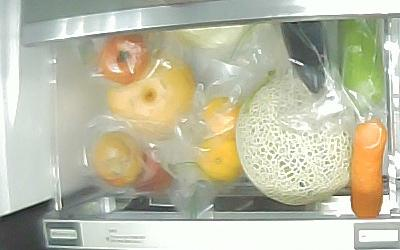carrot: (348, 117, 385, 218)
eggplant_vinyl: (280, 19, 329, 94)
melon: (235, 72, 359, 206)
pear_vinyl: (107, 54, 196, 129)
prune_vinyl: (91, 130, 146, 187), (133, 150, 174, 191)
tangerine_vinyl: (197, 134, 244, 183), (202, 96, 242, 139)
tomato_vinyl: (98, 35, 151, 84)
zucchini_vinyl: (338, 18, 385, 111)
